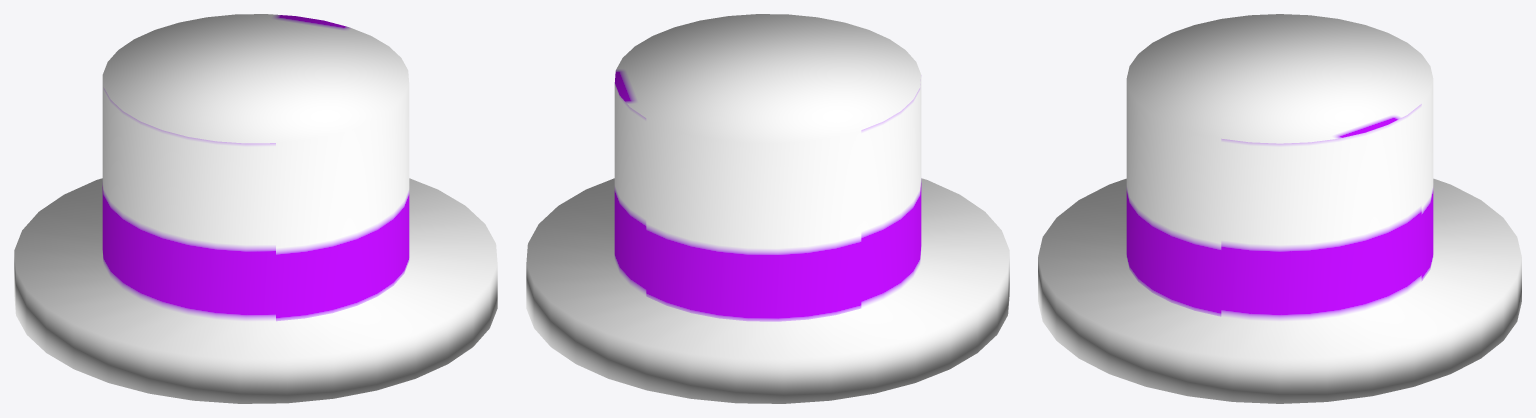
The model's file is tophat.obj.
3 renders of one model, left to right at view 1: azimuth 30°, elevation 25°; view 2: azimuth 150°, elevation 25°; view 3: azimuth 270°, elevation 25°, orthographic.
Visible parts, largest first — view 1: Cylinder; view 2: Cylinder; view 3: Cylinder.
Boxes of the visible parts, x1,y1,x2,y2 form: Cylinder: (14,14,497,403); Cylinder: (526,14,1009,403); Cylinder: (1038,14,1521,403).
Size of the model in its own units: 3.09 by 1.57 by 3.09.
